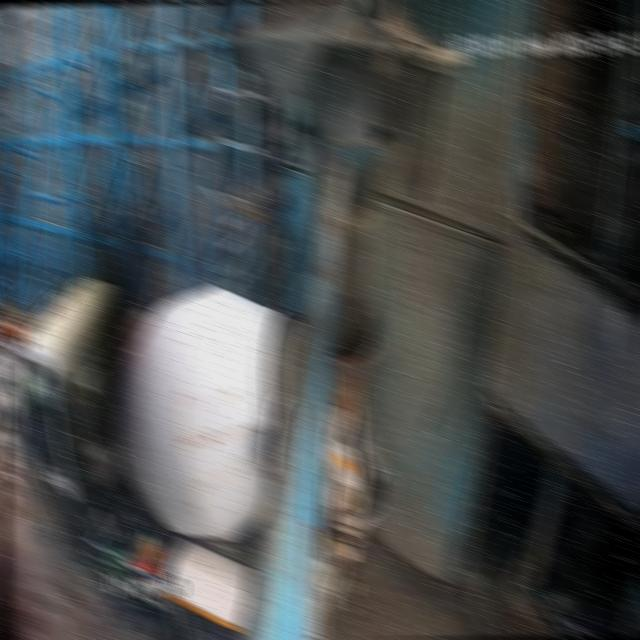cement_mixer_truck: (0, 267, 385, 640)
swing_chute: (292, 120, 390, 352)
